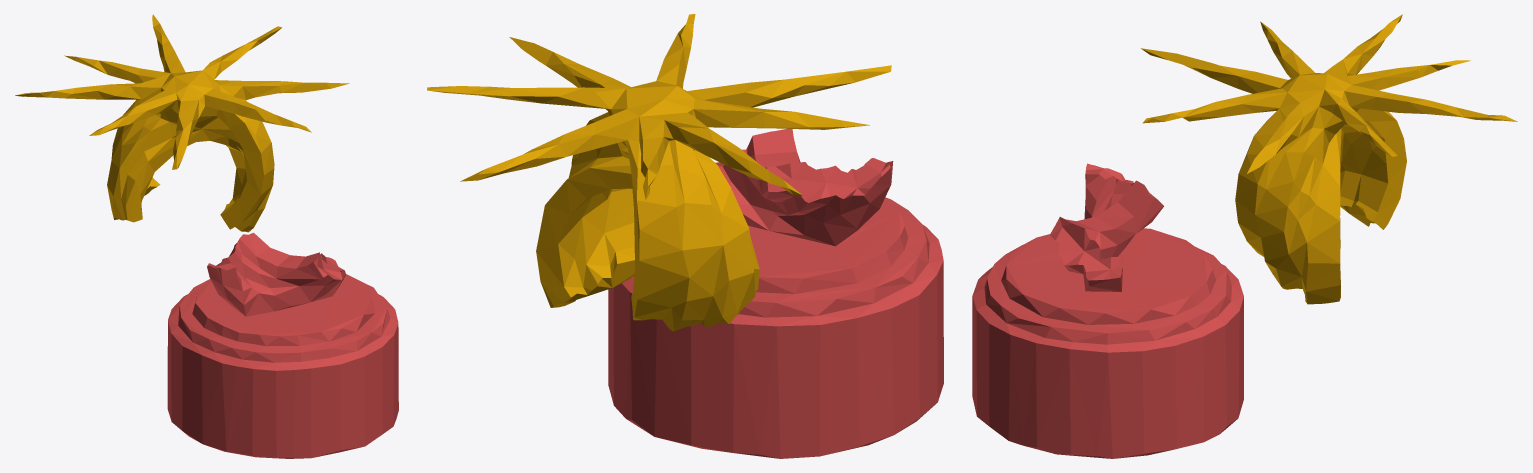
File: fractured_72_2pcs_transformed.glb
The picture shows the model from 3 angles, left to right: view 1: azimuth 30°, elevation 25°; view 2: azimuth 150°, elevation 25°; view 3: azimuth 270°, elevation 25°; orthographic projection. The views are drawn at different scales.
Visible parts, largest first — view 1: piece_1.obj, piece_0.obj; view 2: piece_1.obj, piece_0.obj; view 3: piece_1.obj, piece_0.obj.
Boxes of the visible parts, x1,y1,x2,y2 form: piece_1.obj: (167,232,398,458); piece_0.obj: (15,14,349,232); piece_1.obj: (608,128,943,458); piece_0.obj: (427,14,891,331); piece_1.obj: (972,163,1243,458); piece_0.obj: (1141,14,1517,304).
Size of the model in its own units: 0.9659 by 0.9304 by 1.44.
